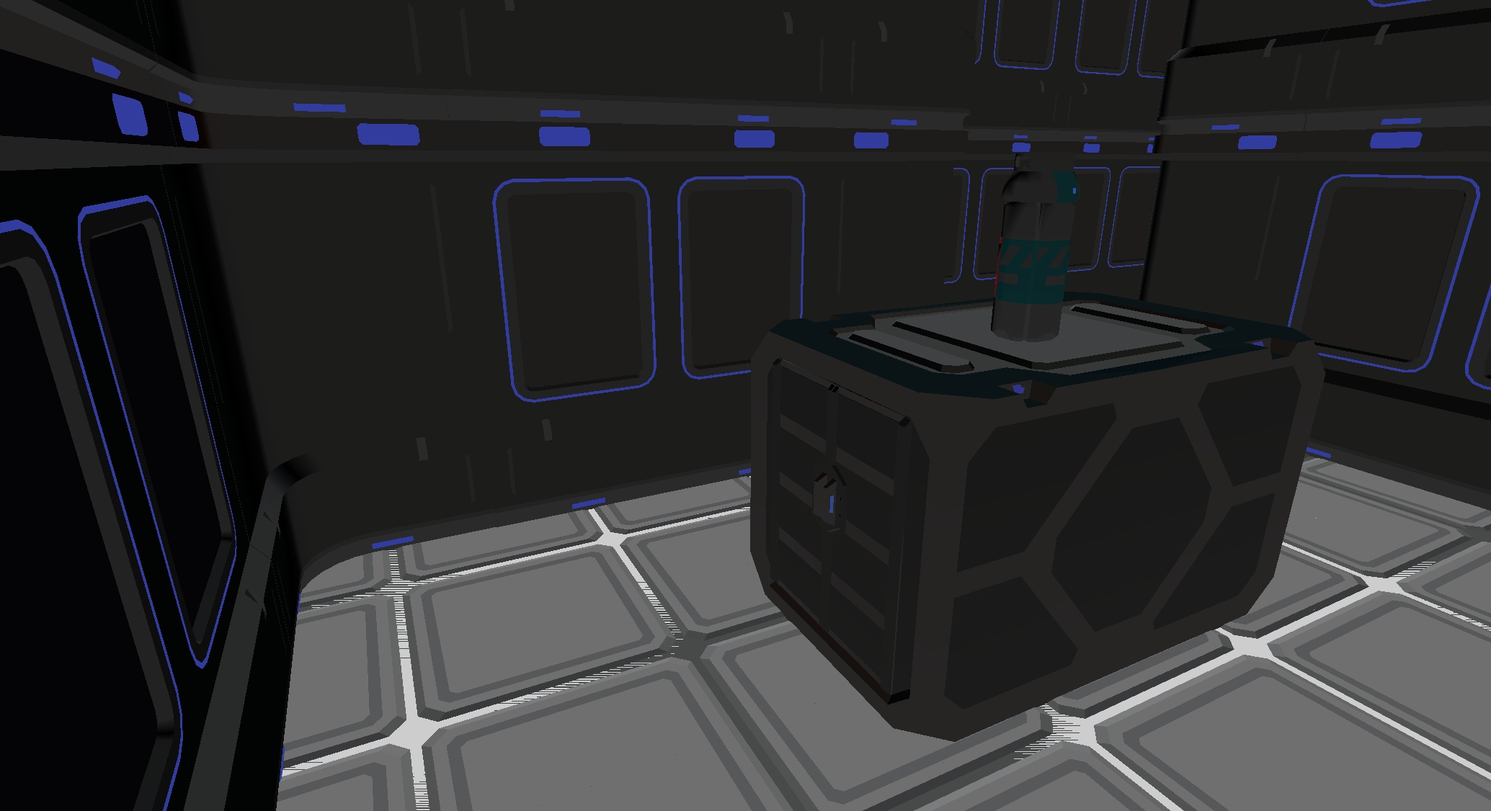red_barrel: (992, 158, 1078, 341)
